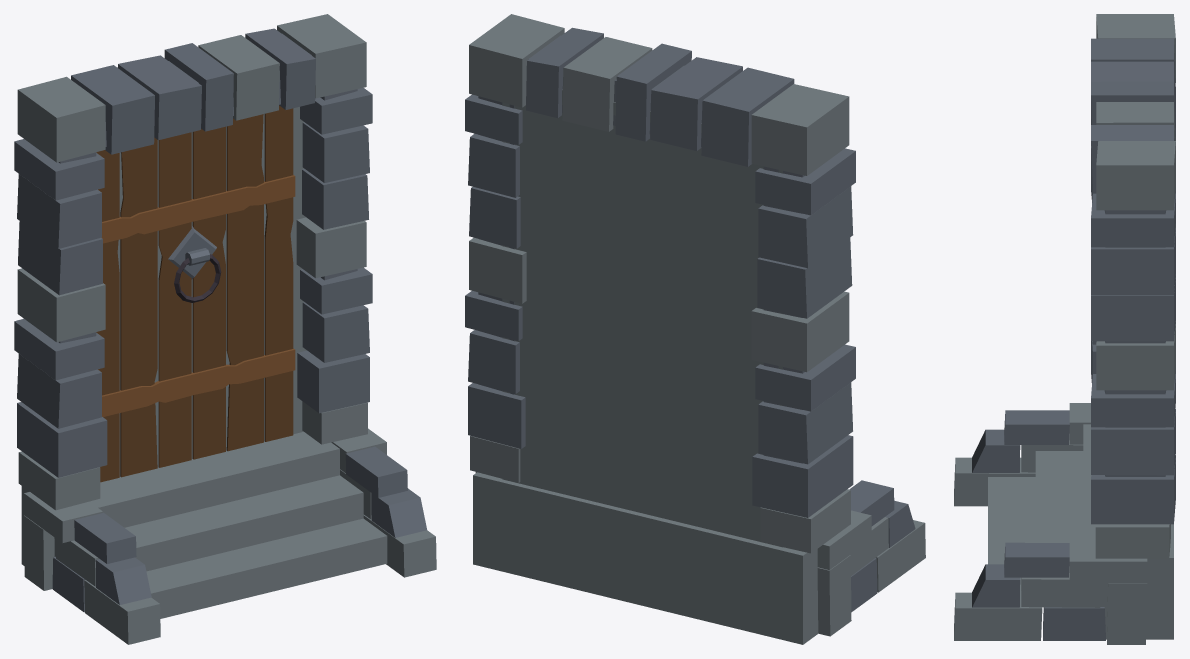
Rendered from Door Straight.glb.
3 renders of one model, left to right at view 1: azimuth 30°, elevation 25°; view 2: azimuth 150°, elevation 25°; view 3: azimuth 270°, elevation 25°, orthographic. The views are drawn at different scales.
Parts seen in each view (by area): view 1: Door_Straight; view 2: Door_Straight; view 3: Door_Straight.
Boxes of the visible parts, box(x1,y1,x2,y2) form: Door_Straight: box(14, 14, 436, 644); Door_Straight: box(465, 14, 925, 644); Door_Straight: box(954, 14, 1175, 644).
Size of the model in its own units: 0.5014 by 0.7079 by 0.2964.
